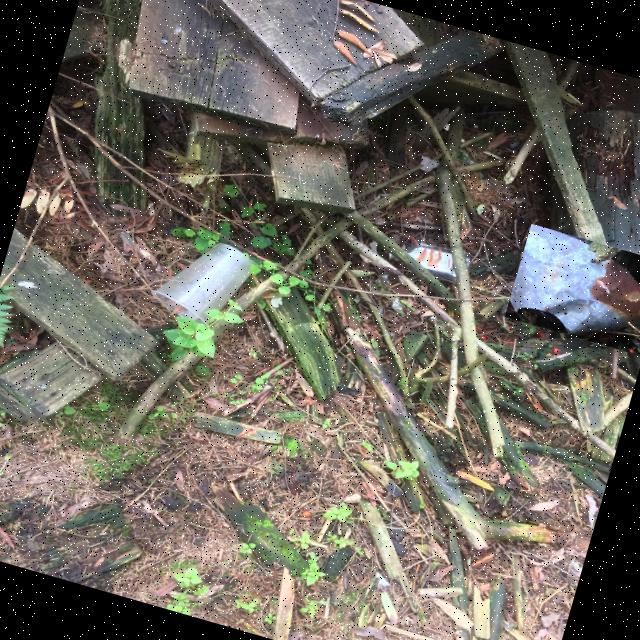Disposable plastic cup: (151, 243, 254, 327)
Scrap metal: (510, 224, 640, 335)
